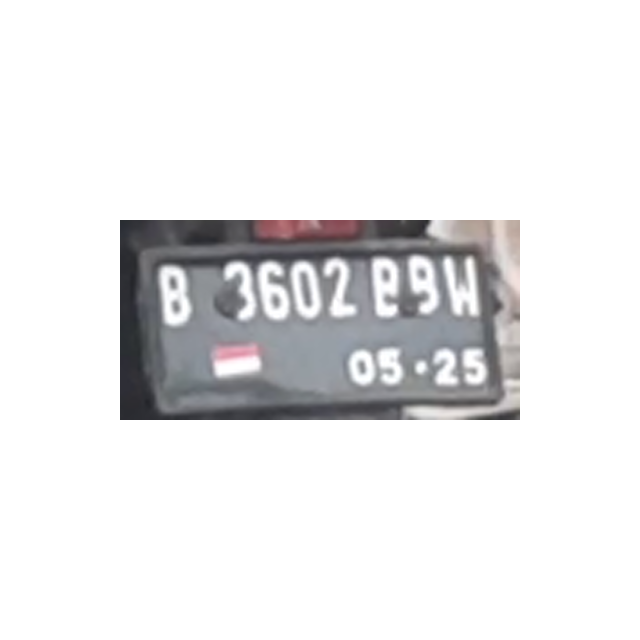contain: (444, 255, 485, 323), (409, 253, 446, 324), (159, 261, 198, 326), (257, 258, 293, 327), (324, 253, 361, 320), (290, 255, 325, 323), (224, 260, 259, 326), (372, 253, 402, 325)
